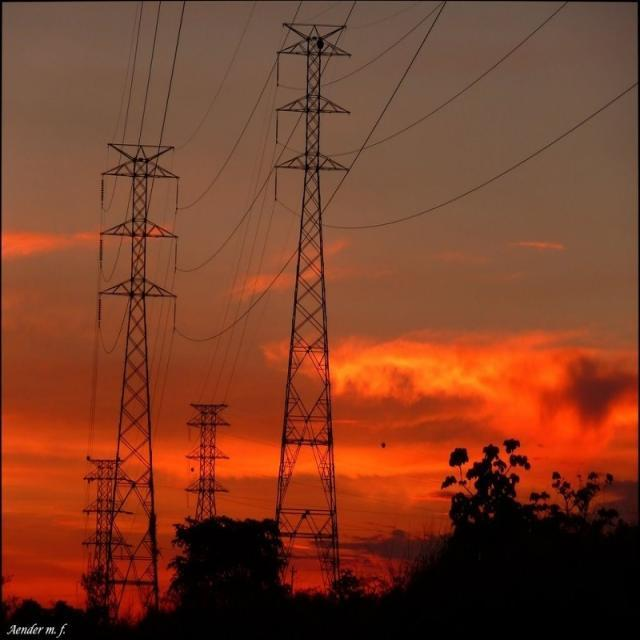non-critical vegetation: (268, 13, 355, 607), (92, 129, 186, 625), (79, 446, 130, 616), (179, 390, 231, 530)
